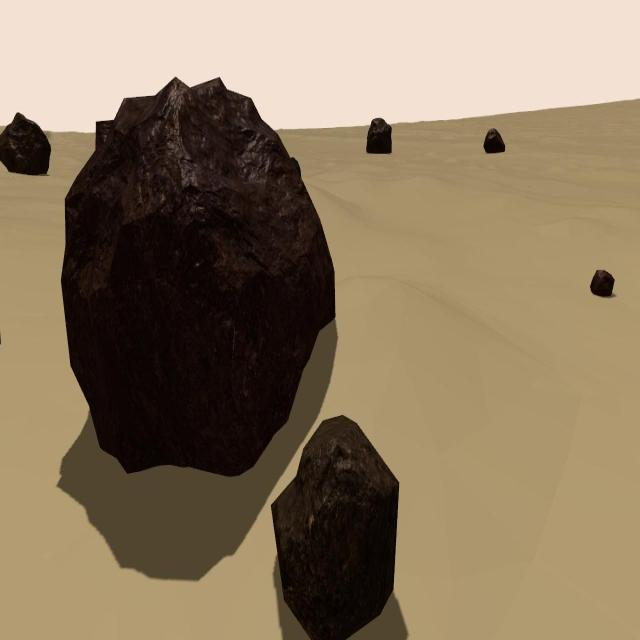rock: (62, 75, 335, 477), (272, 414, 399, 640), (0, 110, 51, 174), (366, 116, 392, 154), (590, 269, 615, 298), (484, 128, 504, 154)
